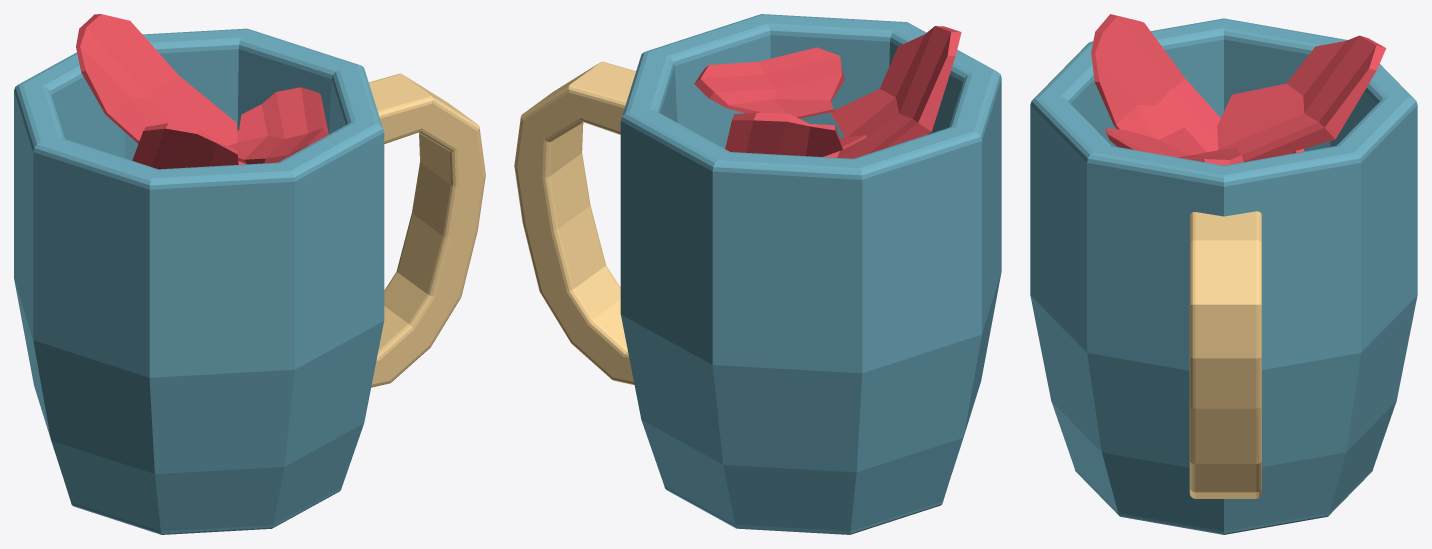
File: Cup (empty) Rose.fbx
3 views of the same model, side by side, from view 1: azimuth 30°, elevation 25°; view 2: azimuth 150°, elevation 25°; view 3: azimuth 270°, elevation 25° (orthographic). The views are drawn at different scales.
Visible parts, largest first — view 1: CupEmptyRose; view 2: CupEmptyRose; view 3: CupEmptyRose.
Boxes of the visible parts, box(x1,y1,x2,y2) form: CupEmptyRose: box(14, 14, 485, 534); CupEmptyRose: box(514, 14, 1001, 534); CupEmptyRose: box(1030, 14, 1417, 534).
Bounding box in the file's own units: 39.57 × 35.63 × 30.
